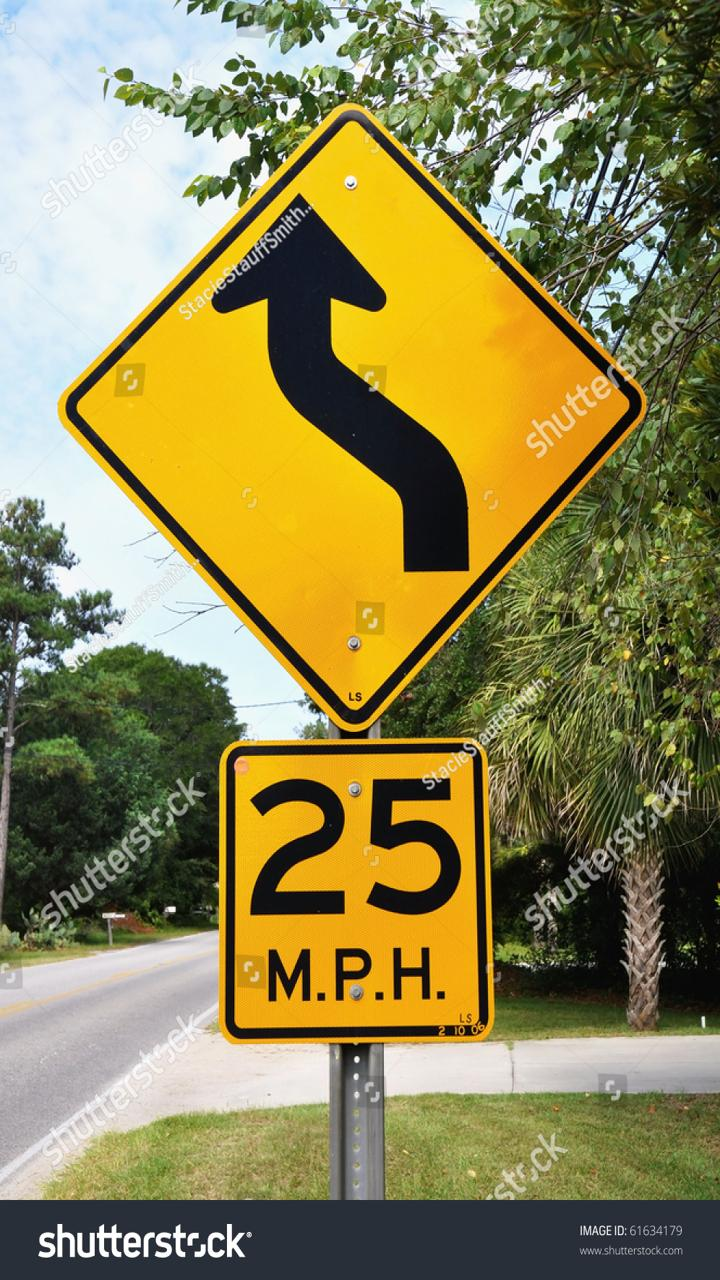Traffic sign: (47, 108, 662, 725), (179, 749, 562, 1063)
